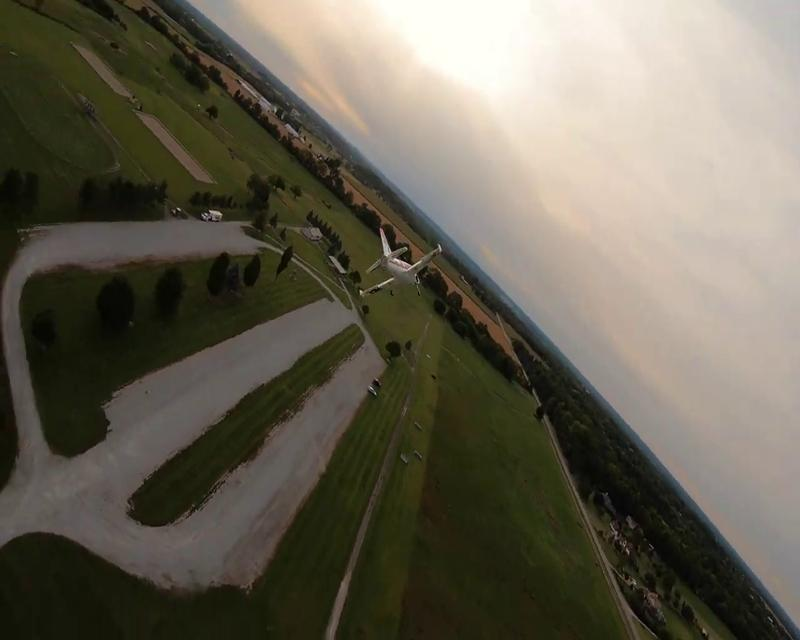UAV: (356, 226, 443, 298)
